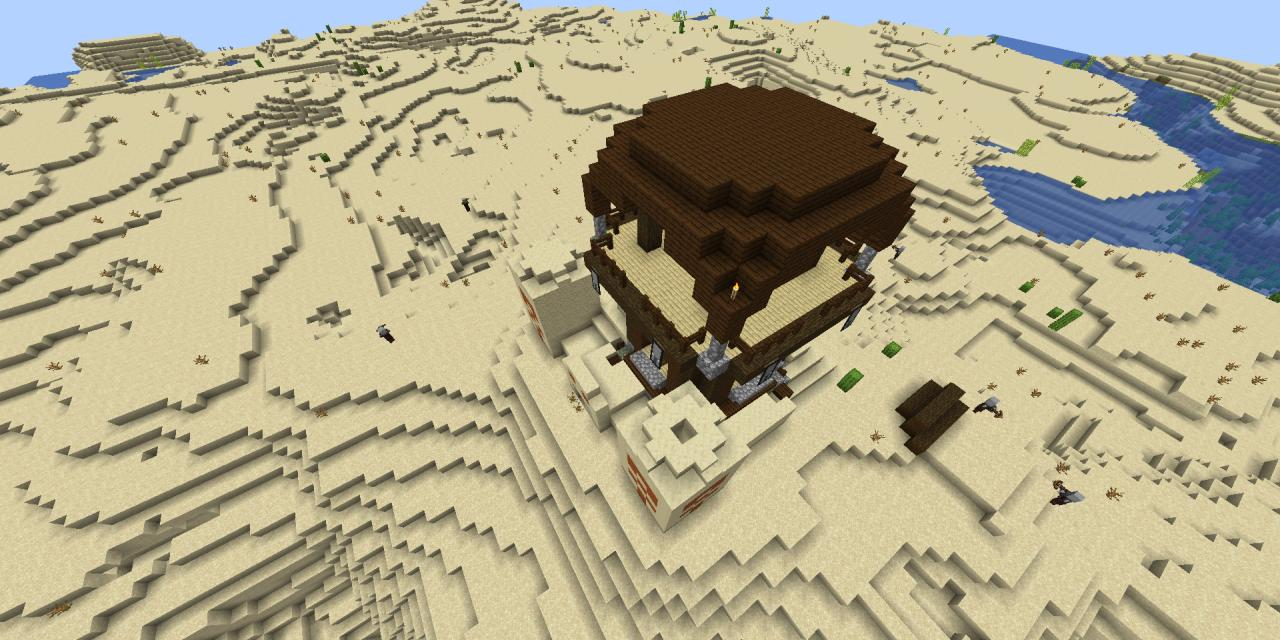desert temple: (500, 228, 811, 509)
pillager outpost: (575, 60, 918, 414)
